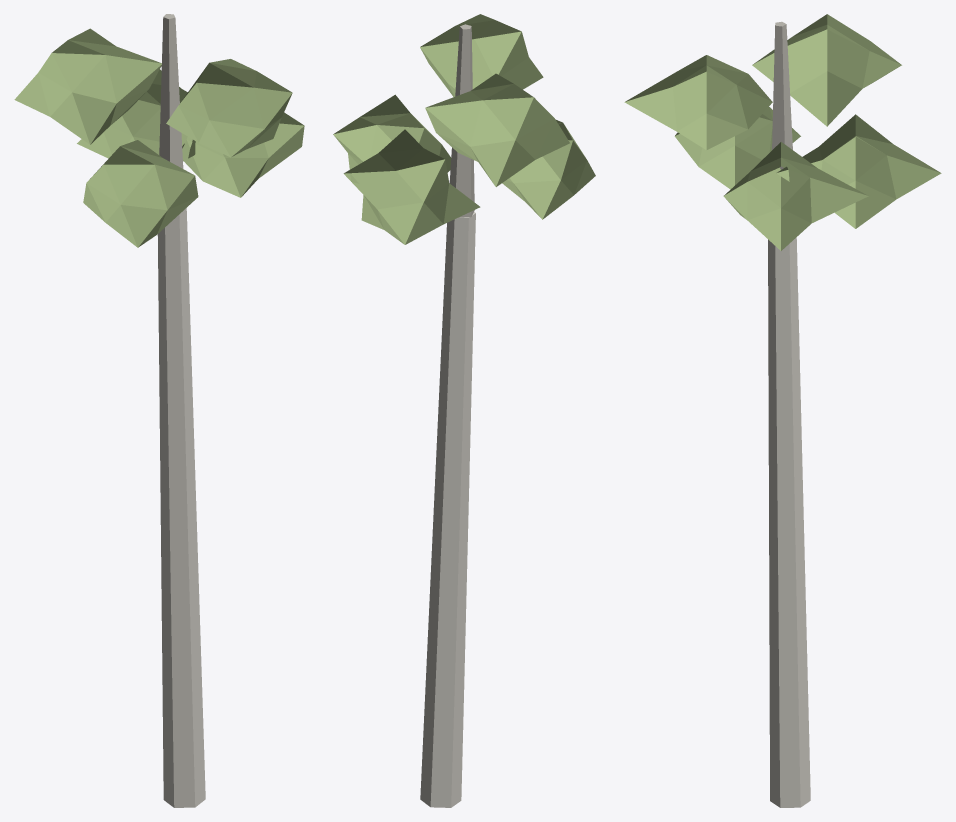
The model's file is birch_v25.glb.
The picture shows the model from 3 angles, left to right: view 1: azimuth 30°, elevation 25°; view 2: azimuth 150°, elevation 25°; view 3: azimuth 270°, elevation 25°; orthographic projection. The views are drawn at different scales.
Parts seen in each view (by area): view 1: lod0; view 2: lod0; view 3: lod0.
Boxes of the visible parts, left/top/right/bottom form: lod0: left=14, top=14, right=304, bottom=807; lod0: left=333, top=14, right=595, bottom=807; lod0: left=624, top=14, right=941, bottom=807.
Size of what is drawn, in the model's own units: 1.9 by 5.41 by 2.03.
